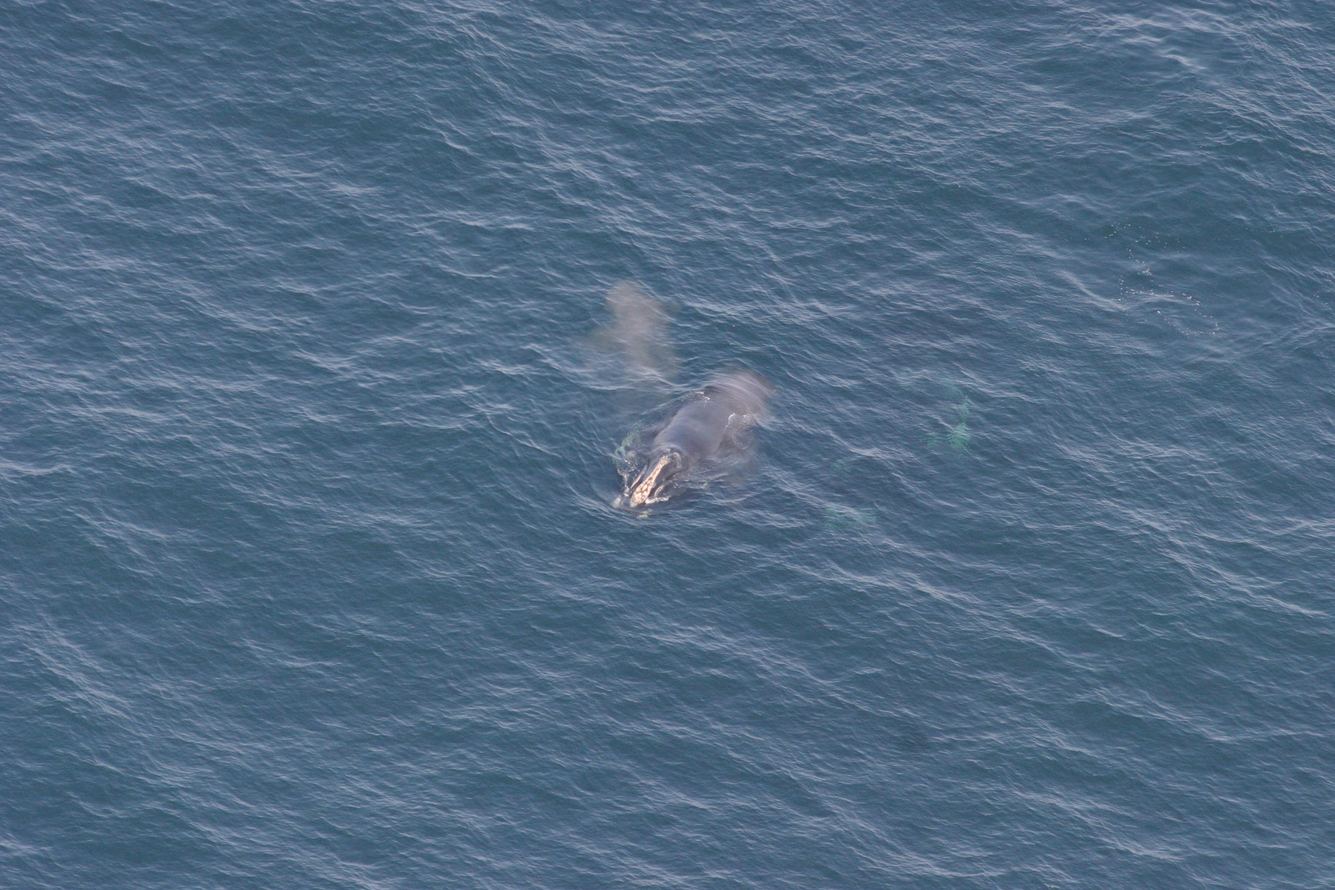whale: (606, 360, 780, 528)
